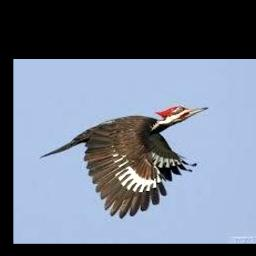Woodpecker: (40, 105, 207, 219)
